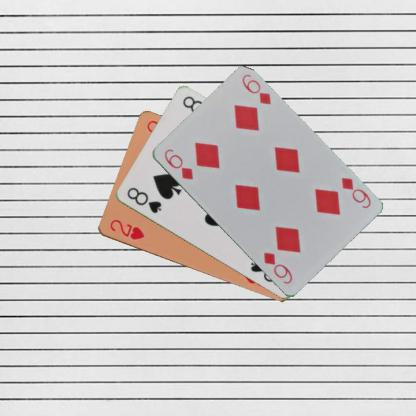2h: (107, 217, 145, 242)
6d: (338, 174, 372, 210), (161, 146, 194, 182)
8s: (124, 184, 163, 215)
